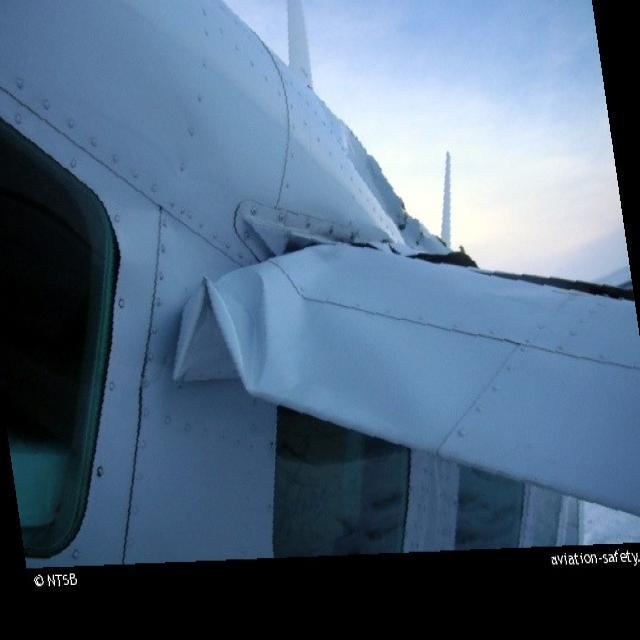dent: (169, 259, 269, 403)
